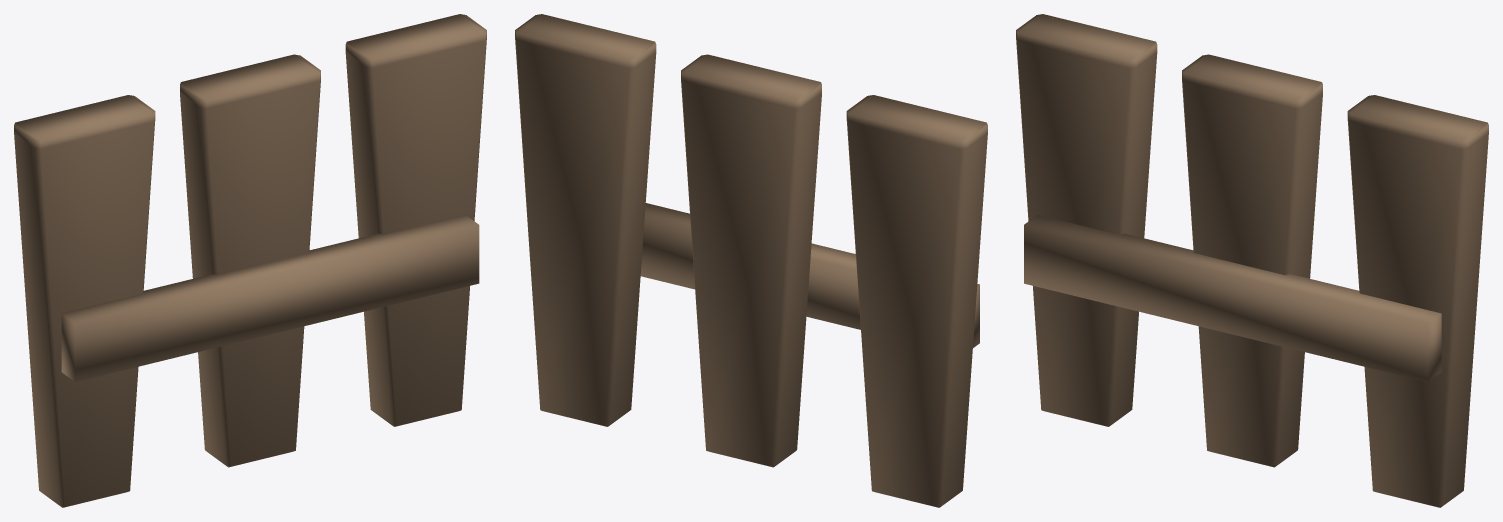
The model's file is bamboo fence.FBX.
The picture shows the model from 3 angles, left to right: view 1: azimuth 30°, elevation 25°; view 2: azimuth 150°, elevation 25°; view 3: azimuth 330°, elevation 25°; orthographic projection.
Parts seen in each view (by area): view 1: obj_37; view 2: obj_37; view 3: obj_37.
Boxes of the visible parts, x1,y1,x2,y2 form: obj_37: (14, 14, 486, 507); obj_37: (515, 14, 987, 507); obj_37: (1016, 14, 1488, 507).
Bounding box in the file's own units: 56.14 × 44.39 × 8.51.
